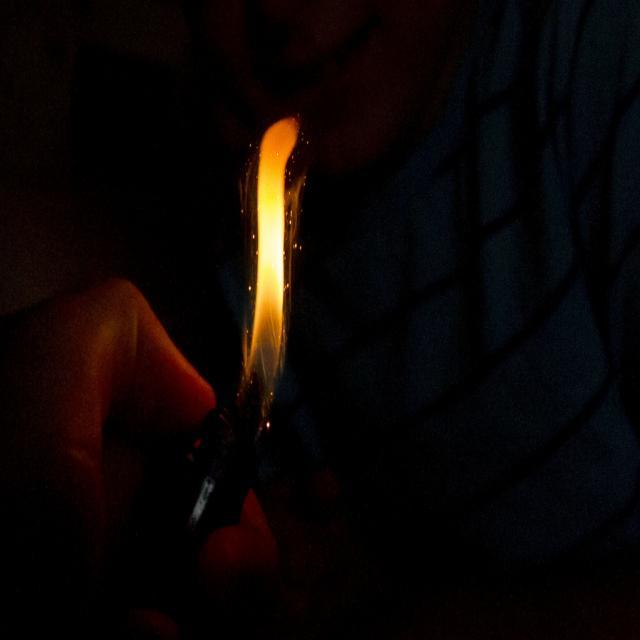Fire: (248, 168, 295, 392)
